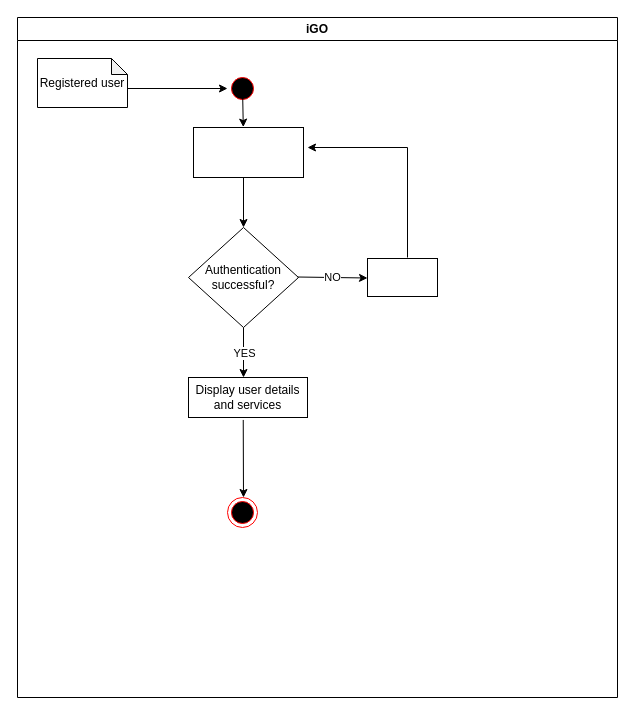
The diagram is 635 pixels wide and 715 high, and some of its shapes have lost their labels. The shapes that lost their labels are listed below. From the top down, each one's centre as x and y in pixels, then its label:
At [248,152]: "Input username and password".
At [402,277]: "show error message".
